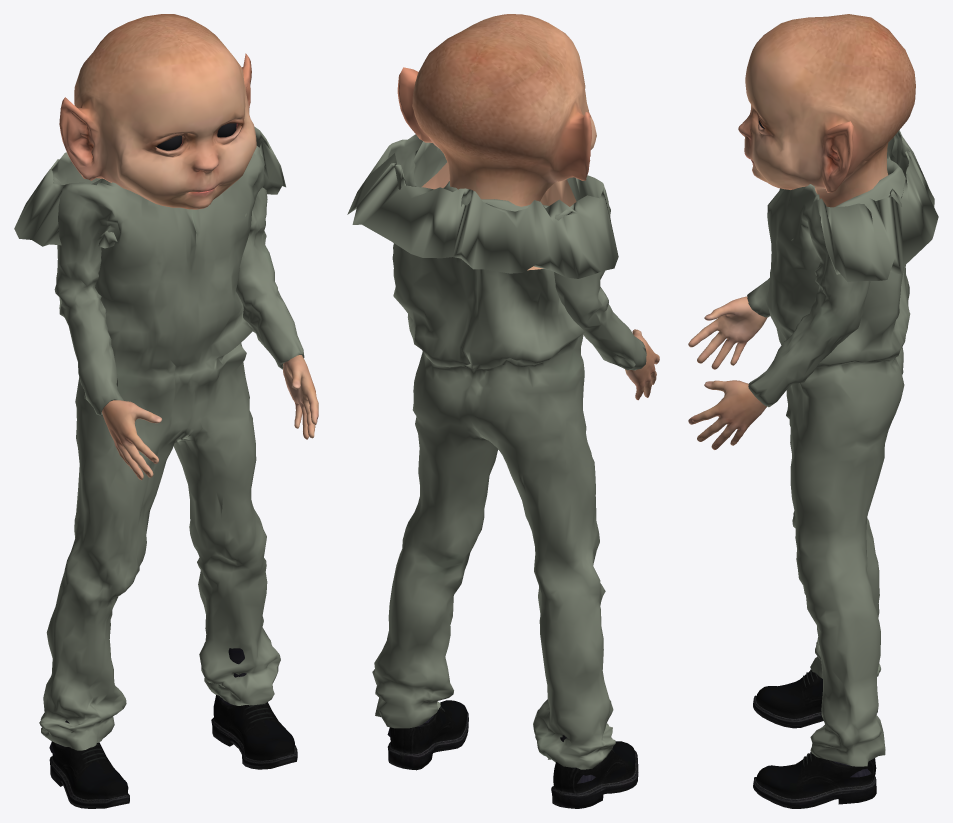
The model's file is valensole-being.glb.
3 renders of one model, left to right at view 1: azimuth 30°, elevation 25°; view 2: azimuth 150°, elevation 25°; view 3: azimuth 270°, elevation 25°, orthographic.
Parts seen in each view (by area): view 1: Human.male_coverall01.001, Human.001, Human.shoes03.001; view 2: Human.male_coverall01.001, Human.001, Human.shoes03.001; view 3: Human.male_coverall01.001, Human.001, Human.shoes03.001.
Part boxes in pixels (left/top/right/bottom): Human.male_coverall01.001: left=14, top=126, right=304, bottom=750; Human.001: left=59, top=14, right=318, bottom=480; Human.shoes03.001: left=49, top=648, right=297, bottom=808; Human.male_coverall01.001: left=347, top=134, right=646, bottom=769; Human.001: left=397, top=14, right=659, bottom=400; Human.shoes03.001: left=387, top=700, right=638, bottom=808; Human.male_coverall01.001: left=747, top=130, right=938, bottom=766; Human.001: left=688, top=14, right=915, bottom=449; Human.shoes03.001: left=753, top=669, right=876, bottom=808.
Bounding box in the file's own units: 0.3566 × 0.9744 × 0.3006.
Materials: 4 (3 with a texture image).
